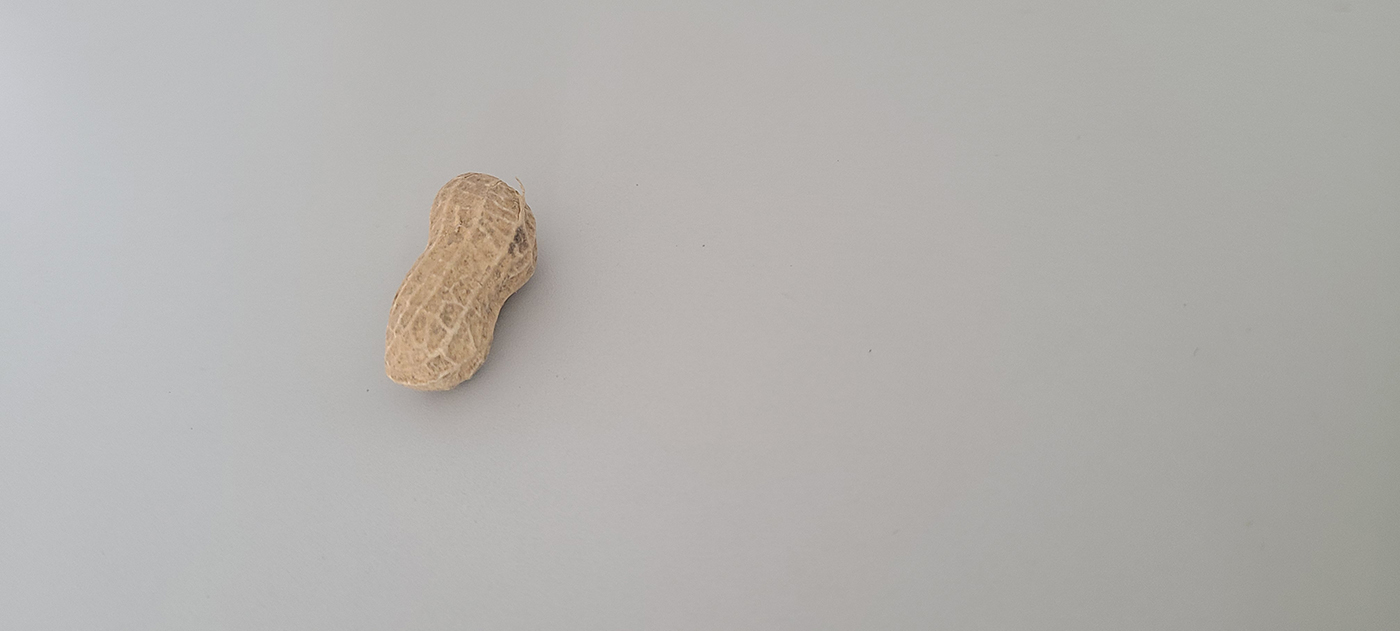h: (378, 169, 539, 389)
